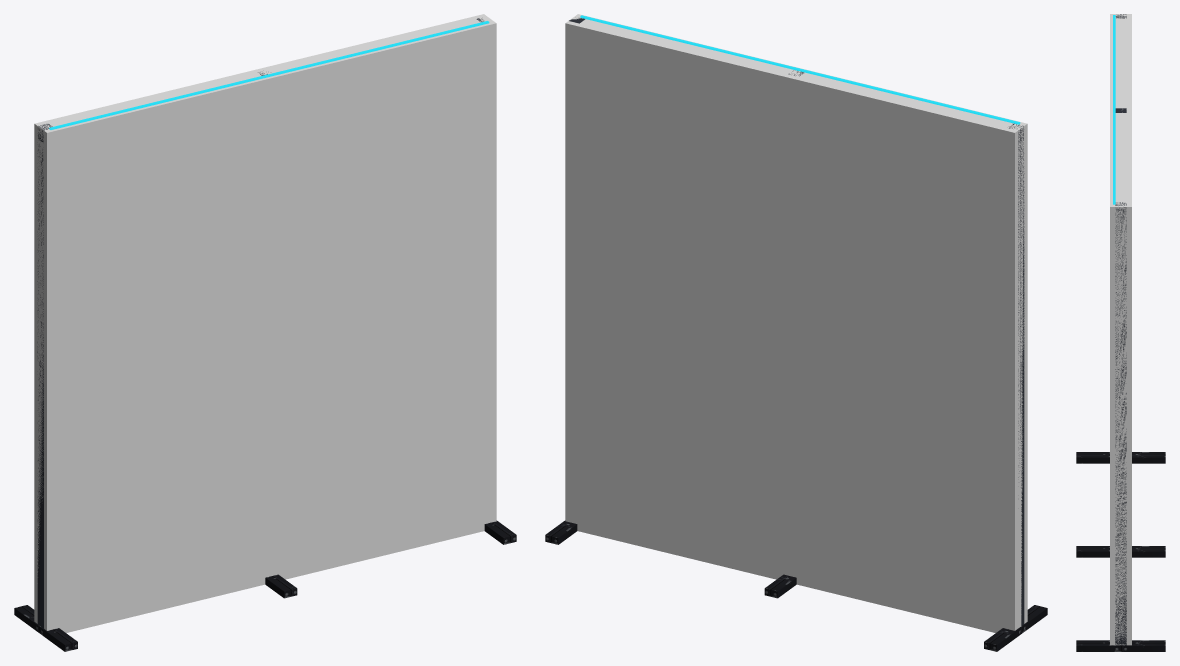
Rendered from Furn_Divider_Glass.001.gltf.
3 views of the same model, side by side, from view 1: azimuth 30°, elevation 25°; view 2: azimuth 150°, elevation 25°; view 3: azimuth 270°, elevation 25° (orthographic). The views are drawn at different scales.
Parts seen in each view (by area): view 1: Furn_Divider_Glass.001_COL, Furn_Divider_Glass.001; view 2: Furn_Divider_Glass.001_COL, Furn_Divider_Glass.001; view 3: Furn_Divider_Glass.001_COL, Furn_Divider_Glass.001.
Part boxes in pixels (bbox=[...]): Furn_Divider_Glass.001_COL: bbox=[34, 14, 496, 632]; Furn_Divider_Glass.001: bbox=[14, 18, 516, 651]; Furn_Divider_Glass.001_COL: bbox=[565, 14, 1027, 632]; Furn_Divider_Glass.001: bbox=[545, 15, 1047, 651]; Furn_Divider_Glass.001_COL: bbox=[1110, 14, 1131, 645]; Furn_Divider_Glass.001: bbox=[1076, 14, 1165, 651].
Size of the model in its own units: 2.06 by 2.21 by 0.4.
Materials: 4 (1 with a texture image).
